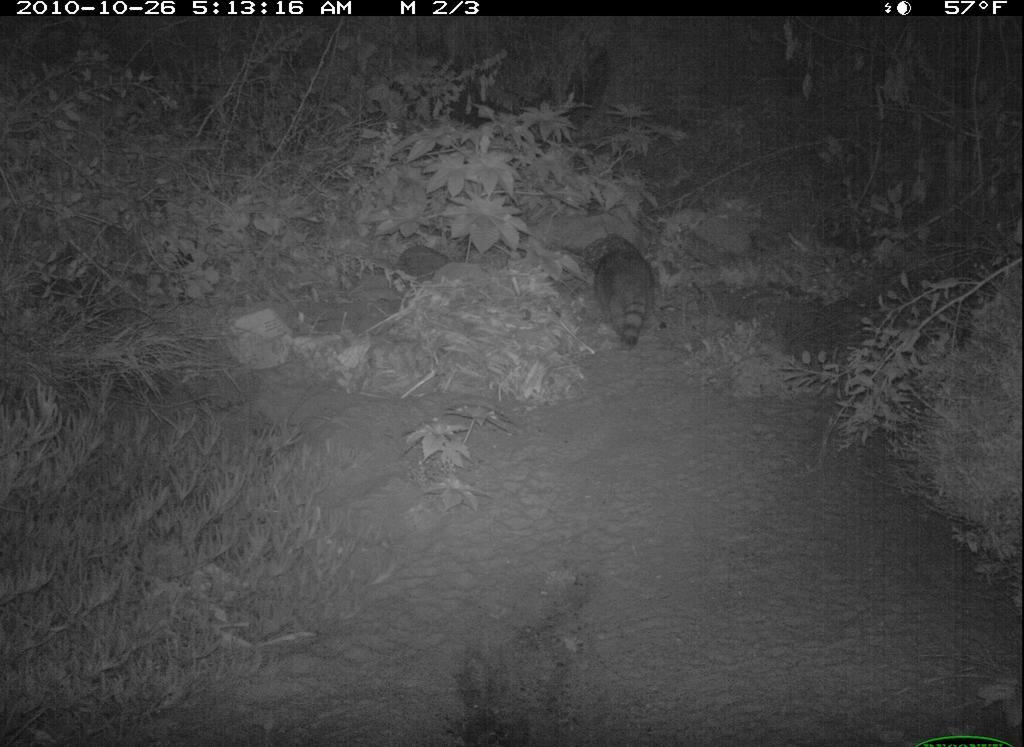raccoon: (575, 230, 671, 352)
